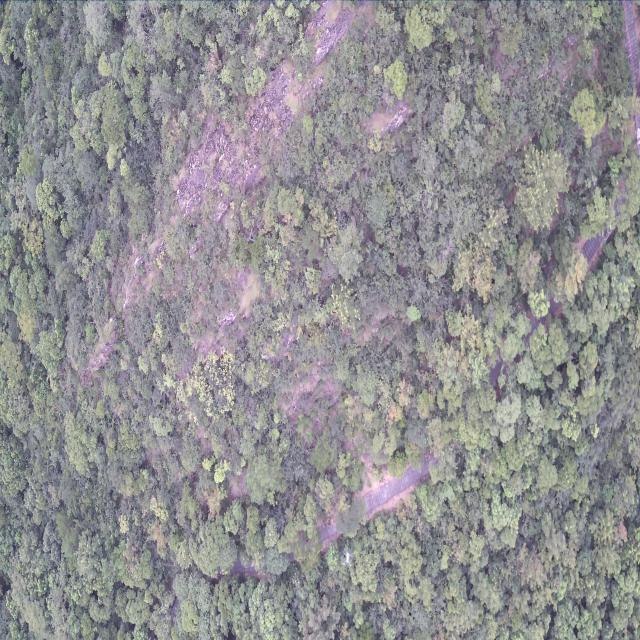UAV: (342, 551, 354, 568)
